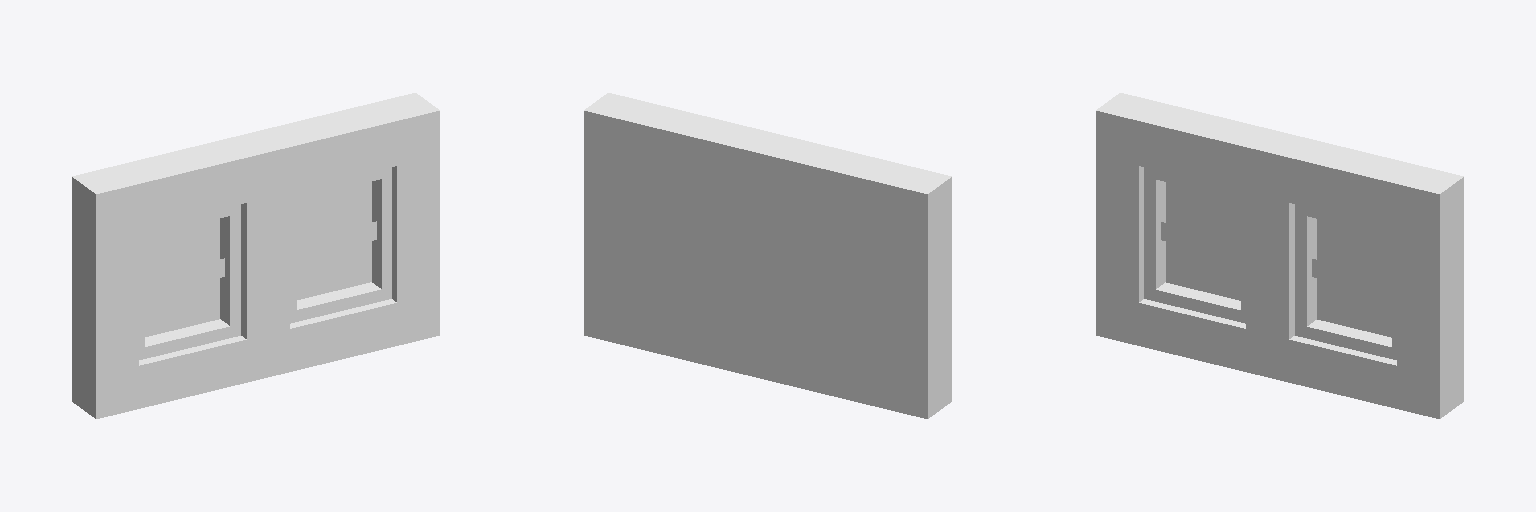
File: Windows_detailed_white.obj
3 renders of one model, left to right at view 1: azimuth 30°, elevation 25°; view 2: azimuth 150°, elevation 25°; view 3: azimuth 330°, elevation 25°, orthographic.
Visible parts, largest first — view 1: building-windows; view 2: building-windows; view 3: building-windows.
Part boxes in pixels (left/top/right/bottom): building-windows: left=72, top=93, right=439, bottom=418; building-windows: left=584, top=93, right=951, bottom=418; building-windows: left=1096, top=93, right=1463, bottom=418.
Size of the model in its own units: 1 by 0.625 by 0.1236.